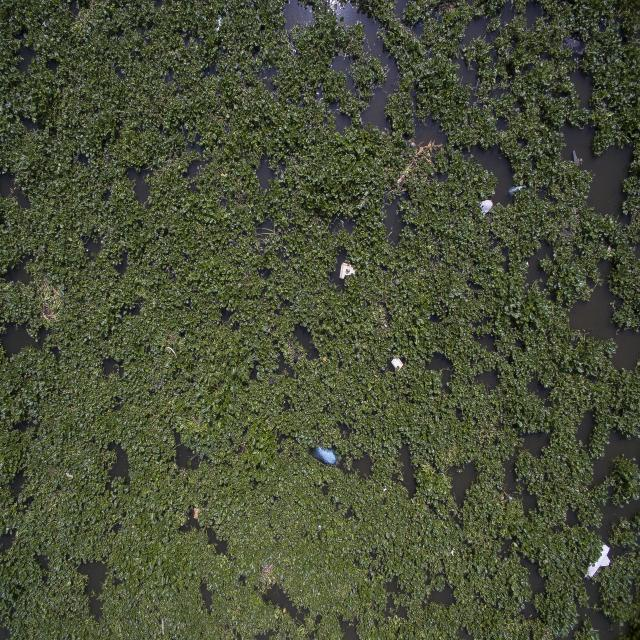debris: (399, 142, 440, 178), (585, 540, 613, 576), (477, 199, 494, 216), (571, 149, 583, 168), (63, 467, 77, 482), (216, 14, 226, 32)
plastic: (312, 444, 342, 465), (337, 258, 358, 280), (388, 354, 408, 374), (507, 183, 525, 199), (191, 505, 202, 521), (380, 482, 390, 494), (159, 618, 166, 635), (316, 523, 324, 533), (451, 549, 458, 560)
